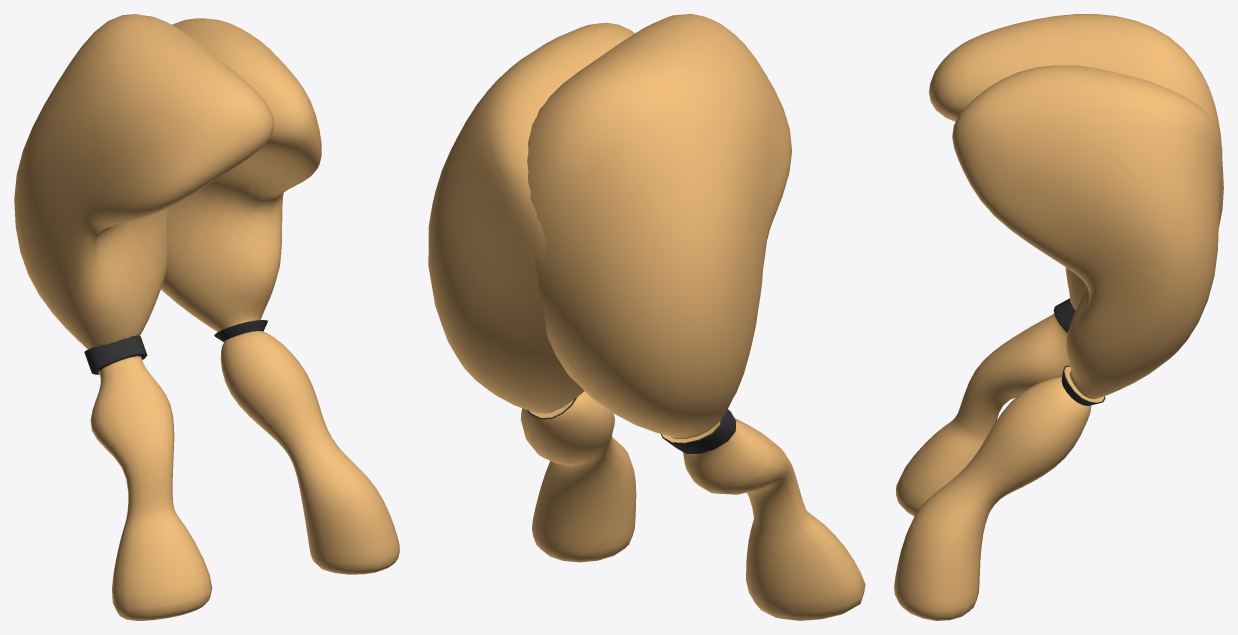
Rendered from hair-006-789c8058.glb.
The picture shows the model from 3 angles, left to right: view 1: azimuth 30°, elevation 25°; view 2: azimuth 150°, elevation 25°; view 3: azimuth 270°, elevation 25°; orthographic projection. The views are drawn at different scales.
Visible parts, largest first — view 1: Geo_Female_White_Hair.011; view 2: Geo_Female_White_Hair.011; view 3: Geo_Female_White_Hair.011.
Boxes of the visible parts, x1=… form: Geo_Female_White_Hair.011: x1=14, y1=14, x2=399, y2=620; Geo_Female_White_Hair.011: x1=428, y1=14, x2=865, y2=620; Geo_Female_White_Hair.011: x1=894, y1=14, x2=1223, y2=620.
Bounding box in the file's own units: 2.29 × 4.03 × 2.3.
